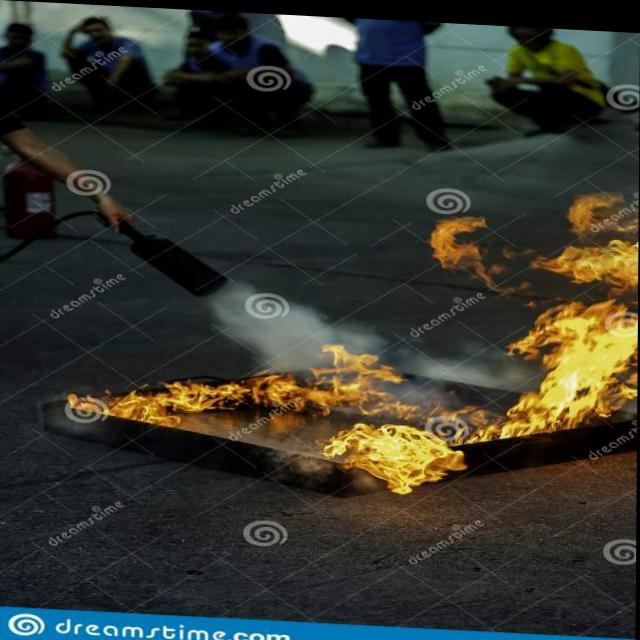FireExtinguisher: (0, 135, 72, 248)
